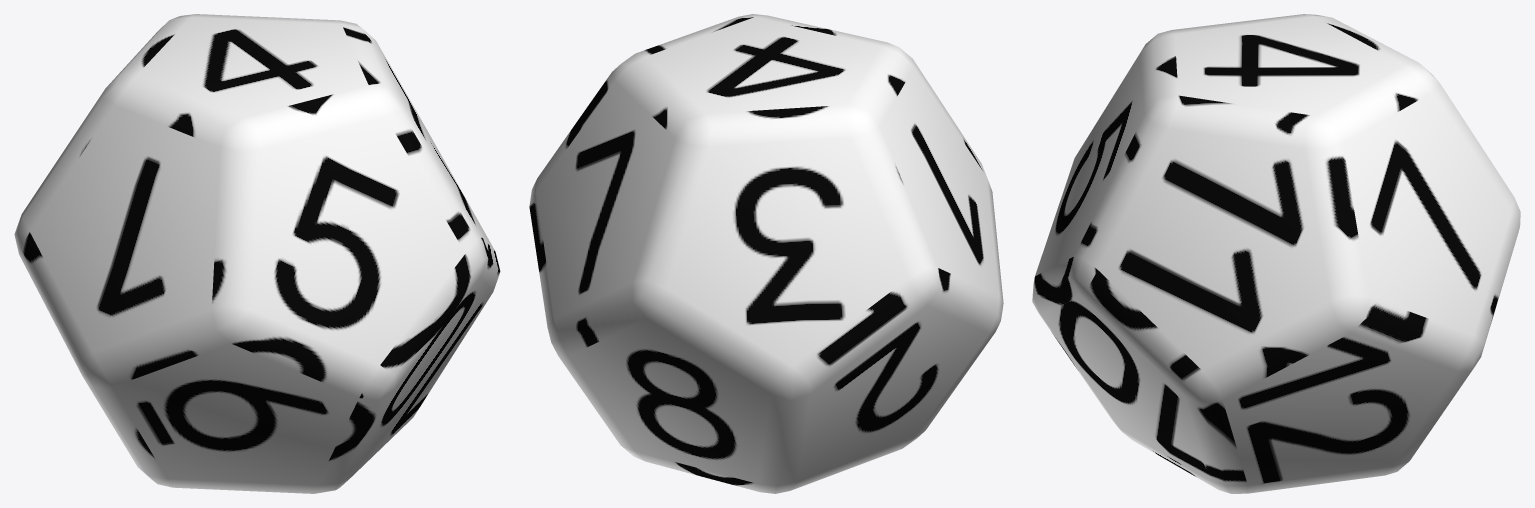
Rendered from Dado12_Col.FBX.
3 views of the same model, side by side, from view 1: azimuth 30°, elevation 25°; view 2: azimuth 150°, elevation 25°; view 3: azimuth 270°, elevation 25° (orthographic). The views are drawn at different scales.
Visible parts, largest first — view 1: Dado12_Col; view 2: Dado12_Col; view 3: Dado12_Col.
Part boxes in pixels (box(x1,y1,x2,y2)): Dado12_Col: box(14, 14, 500, 493); Dado12_Col: box(529, 14, 1003, 493); Dado12_Col: box(1032, 14, 1520, 493).
Bounding box in the file's own units: 227 × 198 × 234.
